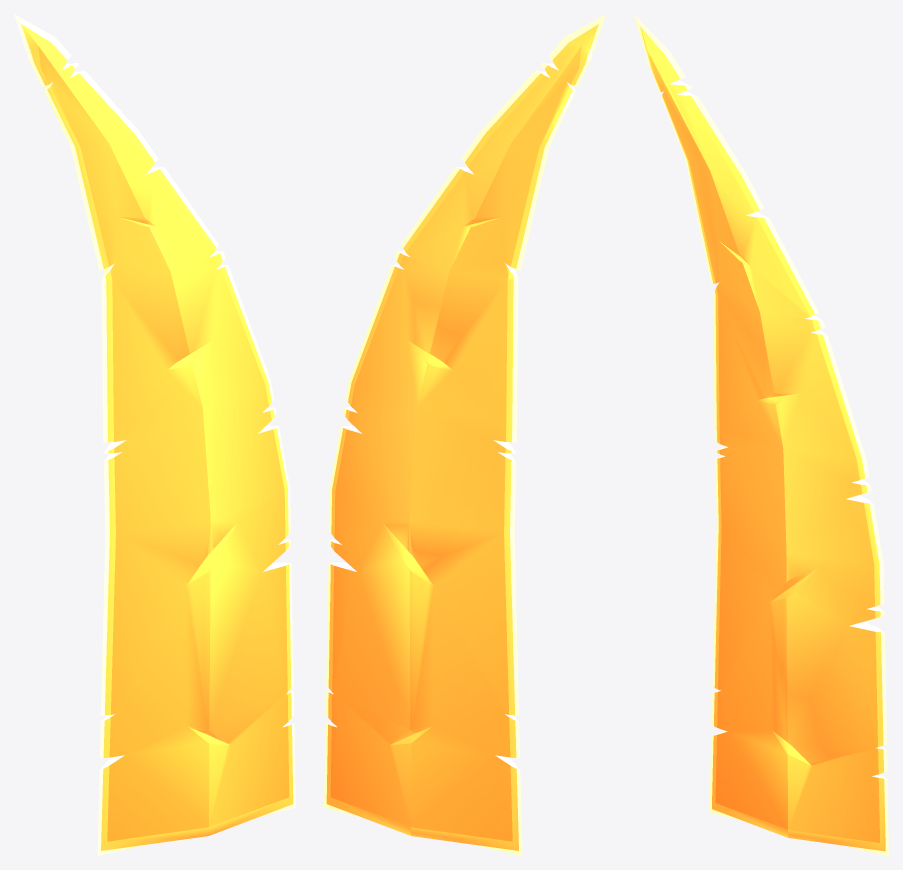
The model's file is gold_blade_scratched_063.glb.
The picture shows the model from 3 angles, left to right: view 1: azimuth 30°, elevation 25°; view 2: azimuth 150°, elevation 25°; view 3: azimuth 330°, elevation 25°; orthographic projection. The views are drawn at different scales.
Visible parts, largest first — view 1: gold_blade_scratched.063; view 2: gold_blade_scratched.063; view 3: gold_blade_scratched.063.
Part boxes in pixels (x1=…): gold_blade_scratched.063: x1=14, y1=14, x2=295, y2=855; gold_blade_scratched.063: x1=324, y1=14, x2=605, y2=855; gold_blade_scratched.063: x1=634, y1=14, x2=888, y2=855.
Size of the model in its own units: 4.2 by 12.29 by 0.7262.
1 material, 1 textured.
